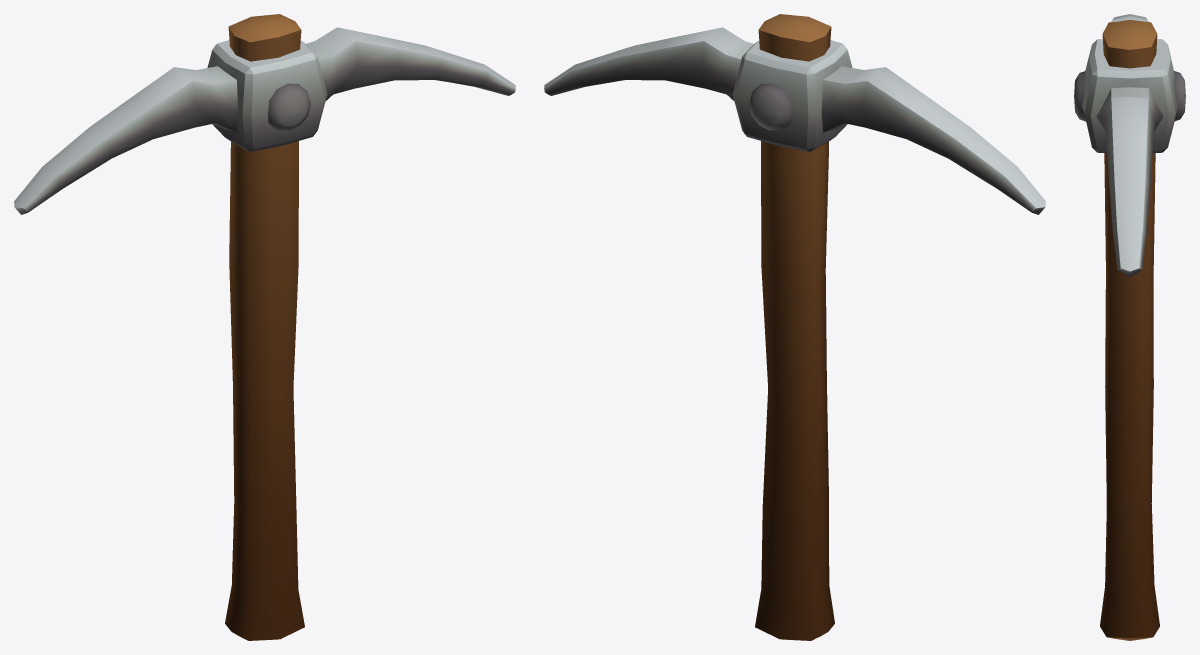
File: Pickaxe_03.glb
The picture shows the model from 3 angles, left to right: view 1: azimuth 30°, elevation 25°; view 2: azimuth 150°, elevation 25°; view 3: azimuth 270°, elevation 25°; orthographic projection.
Visible parts, largest first — view 1: Pickaxe_03; view 2: Pickaxe_03; view 3: Pickaxe_03.
Part boxes in pixels (<box>): Pickaxe_03: <box>14,14,515,640</box>; Pickaxe_03: <box>544,14,1045,640</box>; Pickaxe_03: <box>1074,14,1185,640</box>.
Bounding box in the file's own units: 0.8812 × 1.03 × 0.1729.
Materials: 1 (1 with a texture image).
